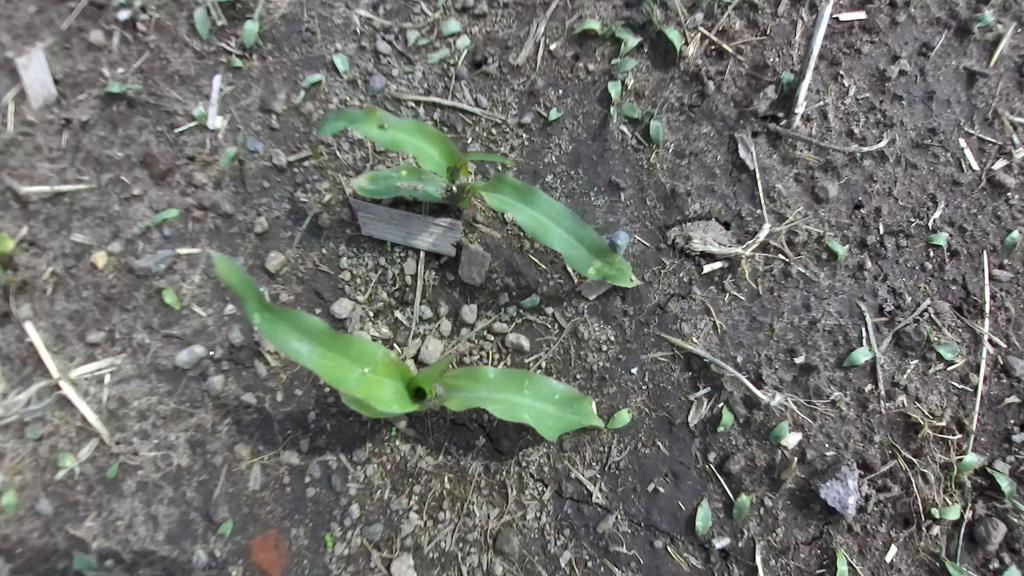BroWeed: (325, 47, 367, 95), (917, 325, 964, 364), (926, 537, 970, 576), (286, 66, 327, 106), (604, 19, 644, 59), (149, 271, 184, 315), (924, 226, 962, 266), (946, 446, 988, 482), (205, 513, 237, 558), (215, 128, 248, 171), (604, 46, 642, 83), (51, 446, 89, 482), (601, 402, 642, 435), (724, 489, 759, 527), (62, 545, 103, 576), (140, 202, 180, 233), (838, 342, 876, 374), (211, 28, 250, 59), (441, 31, 473, 67), (571, 18, 624, 38), (764, 415, 796, 448), (605, 78, 627, 126), (693, 494, 714, 543), (820, 236, 852, 265), (929, 500, 964, 526), (616, 100, 655, 123), (773, 68, 801, 100), (103, 78, 143, 100), (0, 232, 15, 288), (412, 24, 442, 51), (186, 99, 214, 127), (715, 403, 737, 437), (435, 12, 464, 37), (831, 540, 850, 576), (423, 45, 454, 67), (970, 5, 996, 31), (21, 416, 46, 443), (926, 532, 952, 557), (517, 290, 544, 314), (0, 488, 19, 519), (104, 454, 125, 482), (648, 115, 664, 150), (1000, 551, 1022, 576), (989, 457, 1014, 477), (544, 105, 565, 126), (403, 26, 422, 47), (519, 108, 537, 129), (322, 531, 335, 549), (1011, 426, 1024, 444), (398, 62, 415, 75), (431, 107, 443, 125), (228, 53, 243, 67), (344, 96, 362, 106), (700, 0, 710, 12), (389, 426, 397, 438), (441, 124, 450, 134), (386, 241, 392, 251)
Maize: (164, 240, 616, 499), (299, 88, 670, 298)
